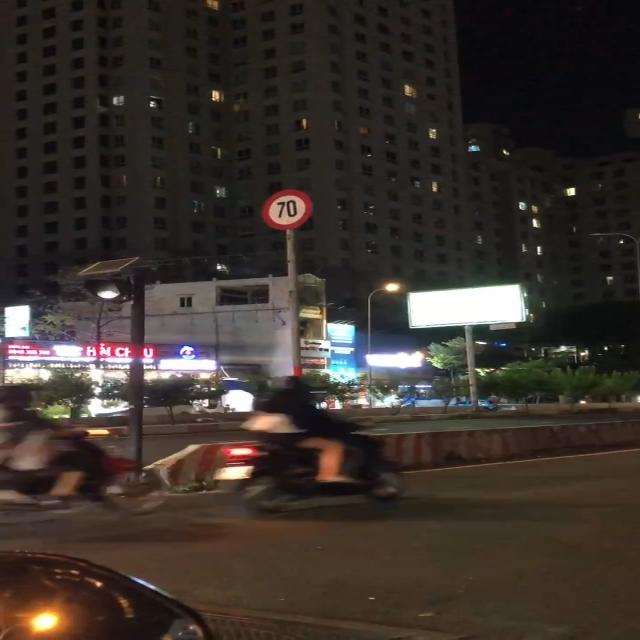Bien bao toc do toi da cho phep: (259, 188, 315, 230)
